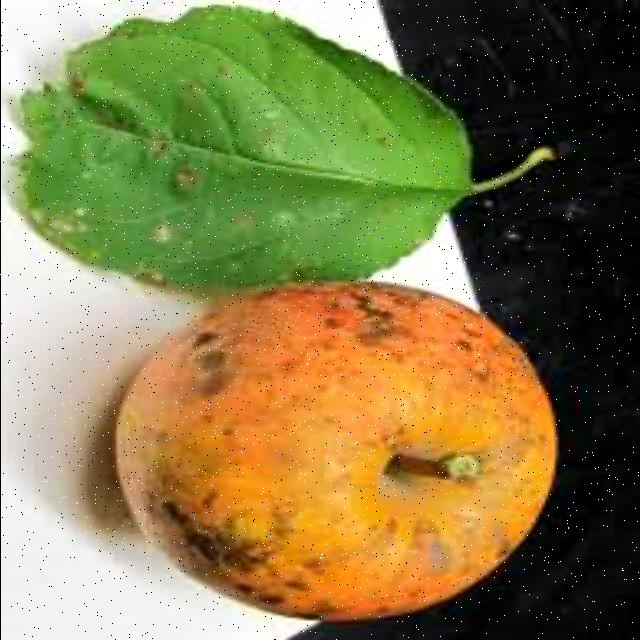BLOTCH: (85, 278, 588, 626)
